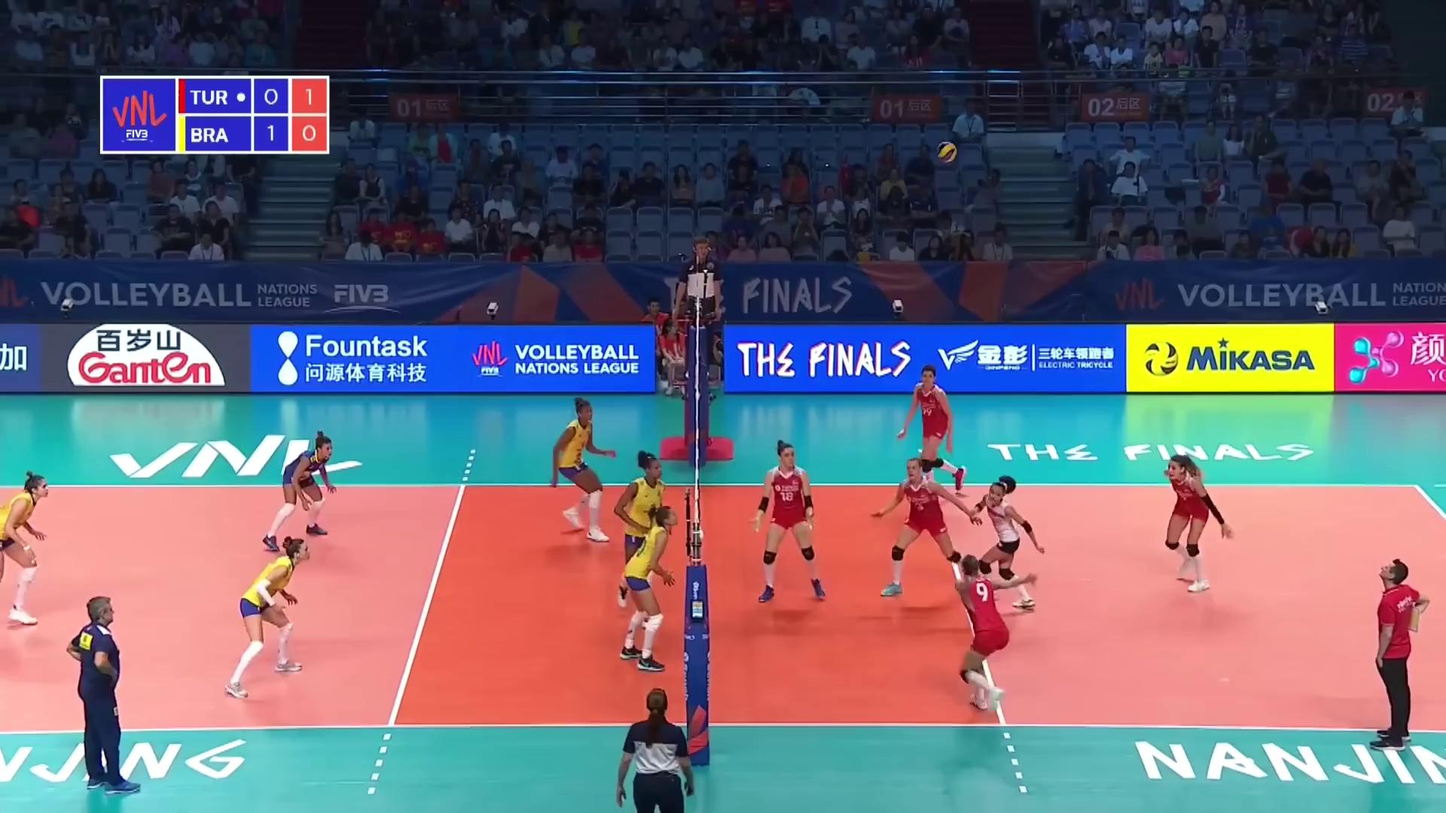player: (865, 456, 980, 603), (226, 538, 310, 701), (754, 442, 823, 604), (967, 478, 1044, 615), (948, 551, 1012, 710), (1161, 456, 1233, 594), (550, 398, 618, 541), (621, 505, 679, 672), (903, 367, 968, 499), (264, 436, 339, 550), (0, 474, 53, 630), (615, 453, 669, 606)
refree: (614, 686, 708, 813), (677, 235, 725, 387)
